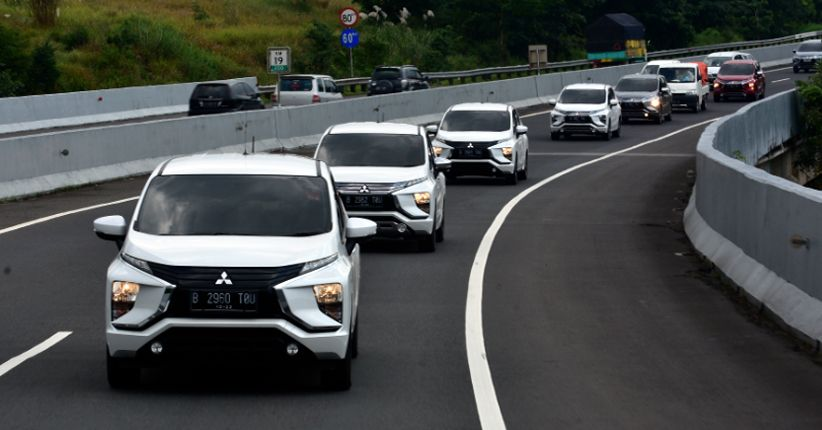plate: (193, 289, 253, 310)
